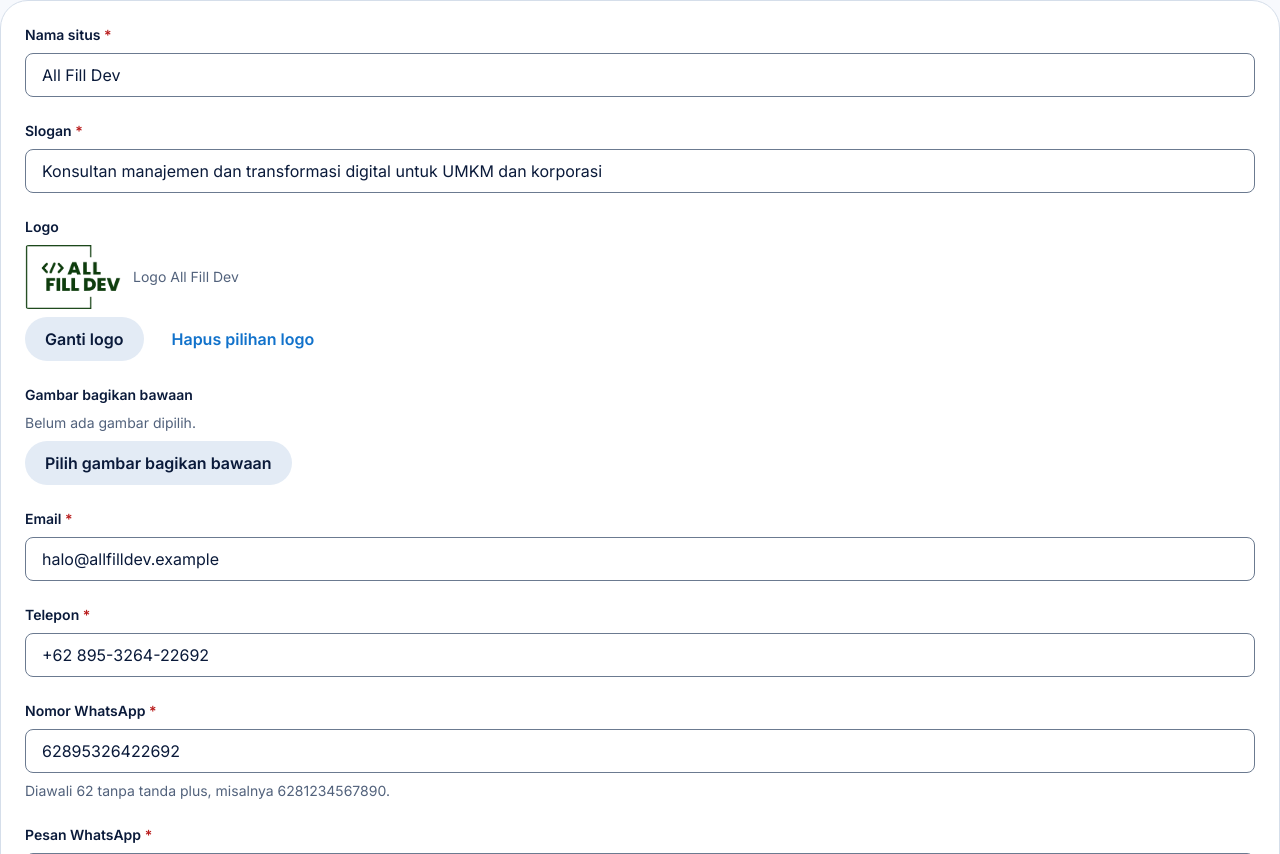
it: settings form › warns which titles will be truncated or become too short after the site name changes
Type " Konsultan Manajemen Terpadu" into the field labelled "Nama situs *" at (640, 75), box [25,53,1255,97]
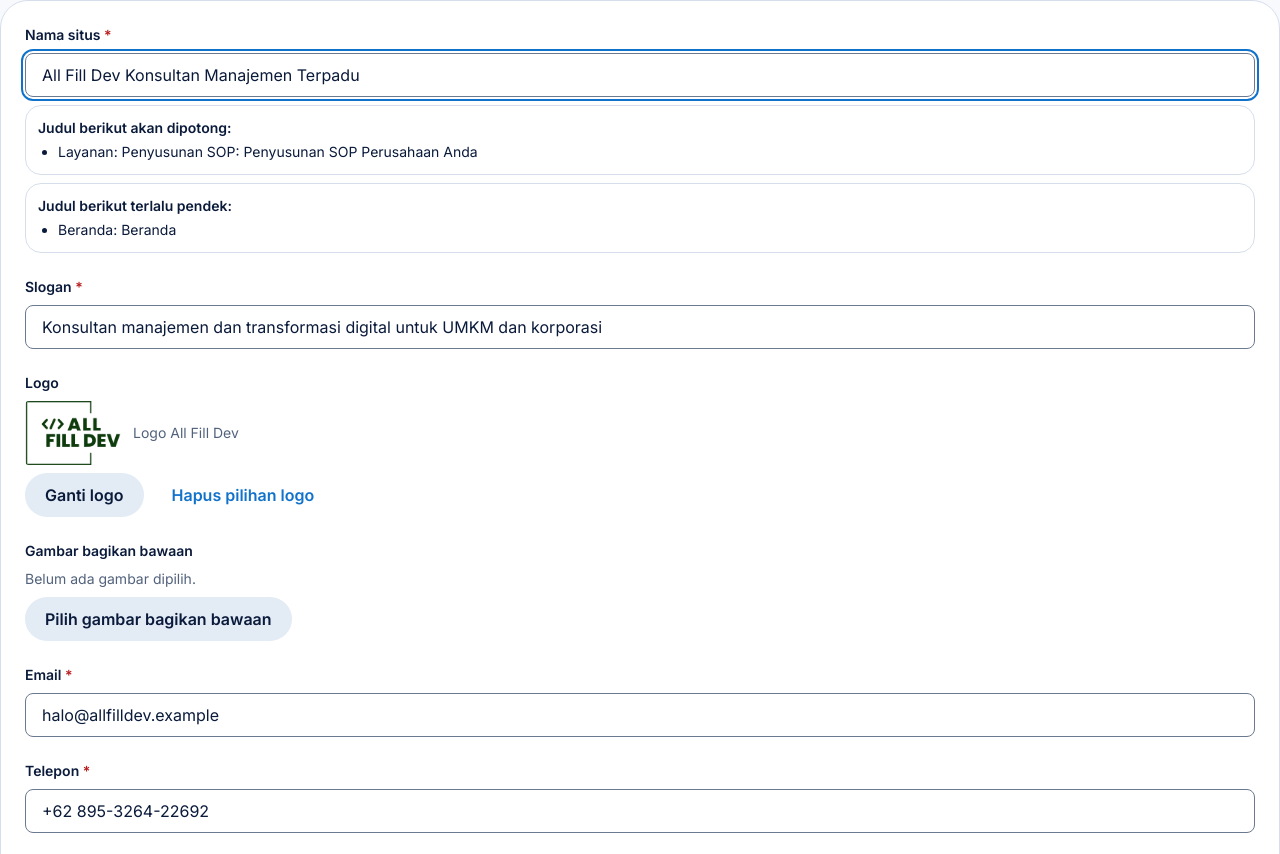
Result: the text "Judul berikut akan dipotong:" is shown at [38,119,232,136]
Result: the list item "Layanan: Penyusunan SOP: Penyusunan SOP Perusahaan Anda" is shown at [58,143,478,160]
Result: the text "Judul berikut terlalu pendek:" is shown at [38,197,232,214]
